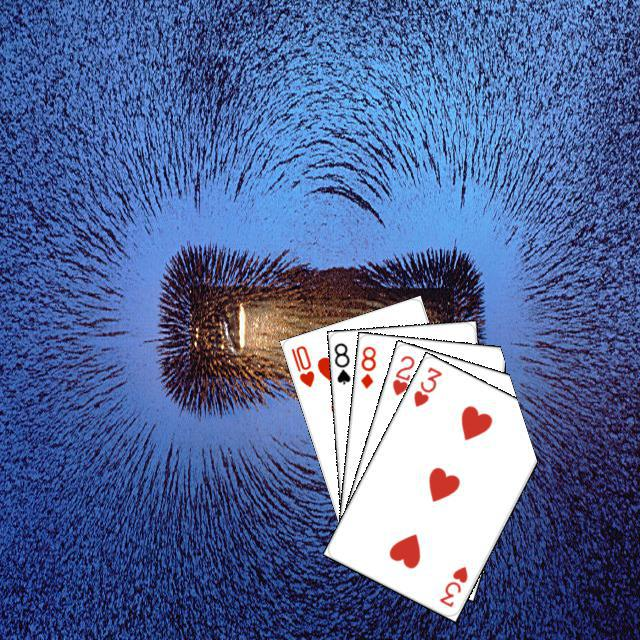10h: (286, 341, 316, 389)
2h: (387, 350, 416, 397)
3h: (408, 362, 444, 409), (434, 561, 469, 609)
8d: (356, 341, 378, 390)
8s: (330, 338, 352, 386)
